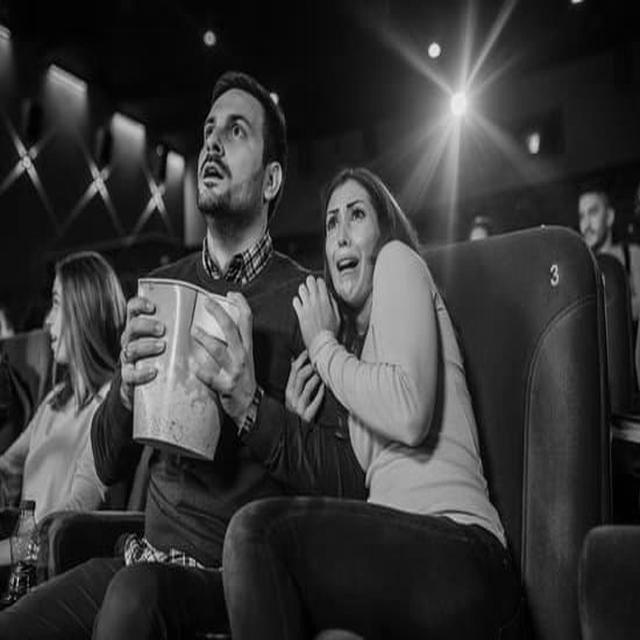Fear: (327, 183, 374, 304)
